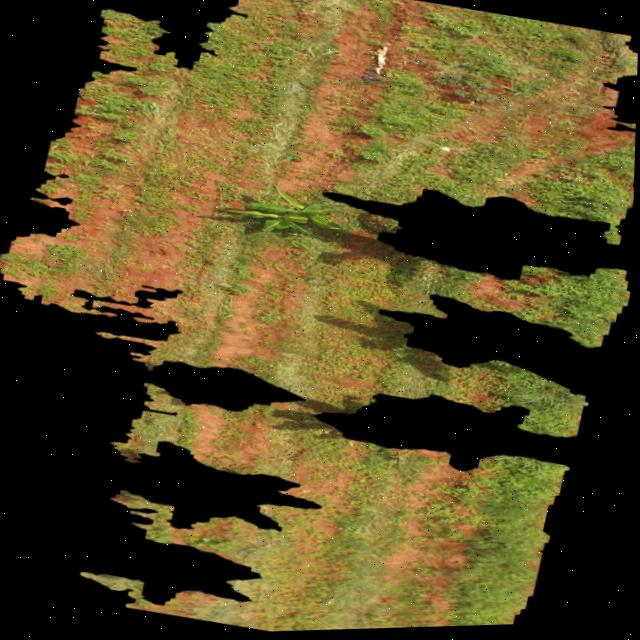Weed: (0, 0, 638, 633)
